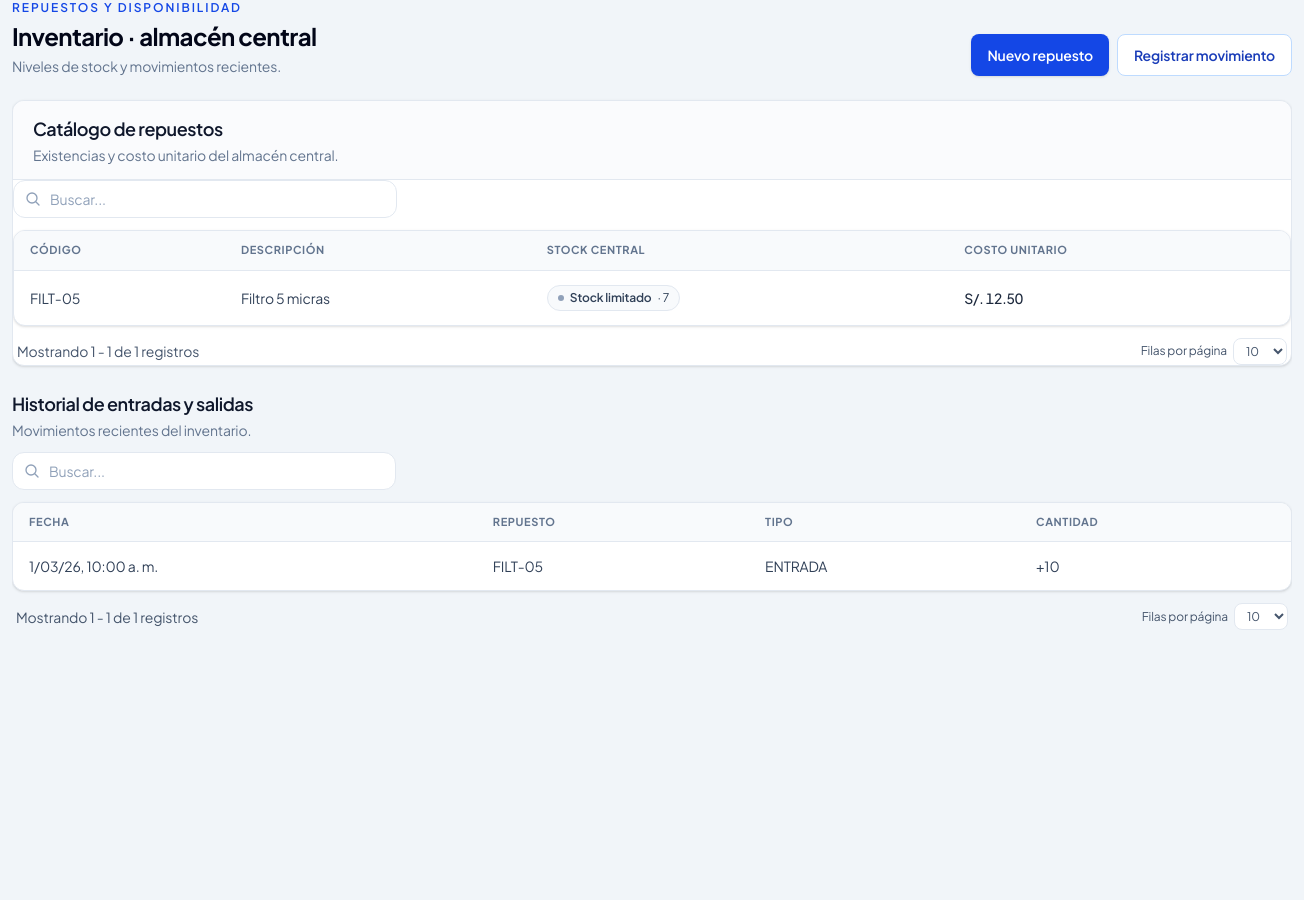
InventarioPage › crea un repuesto
Click the button "Nuevo repuesto" at (1040, 55), box [971,34,1109,76]
(page scrolled)
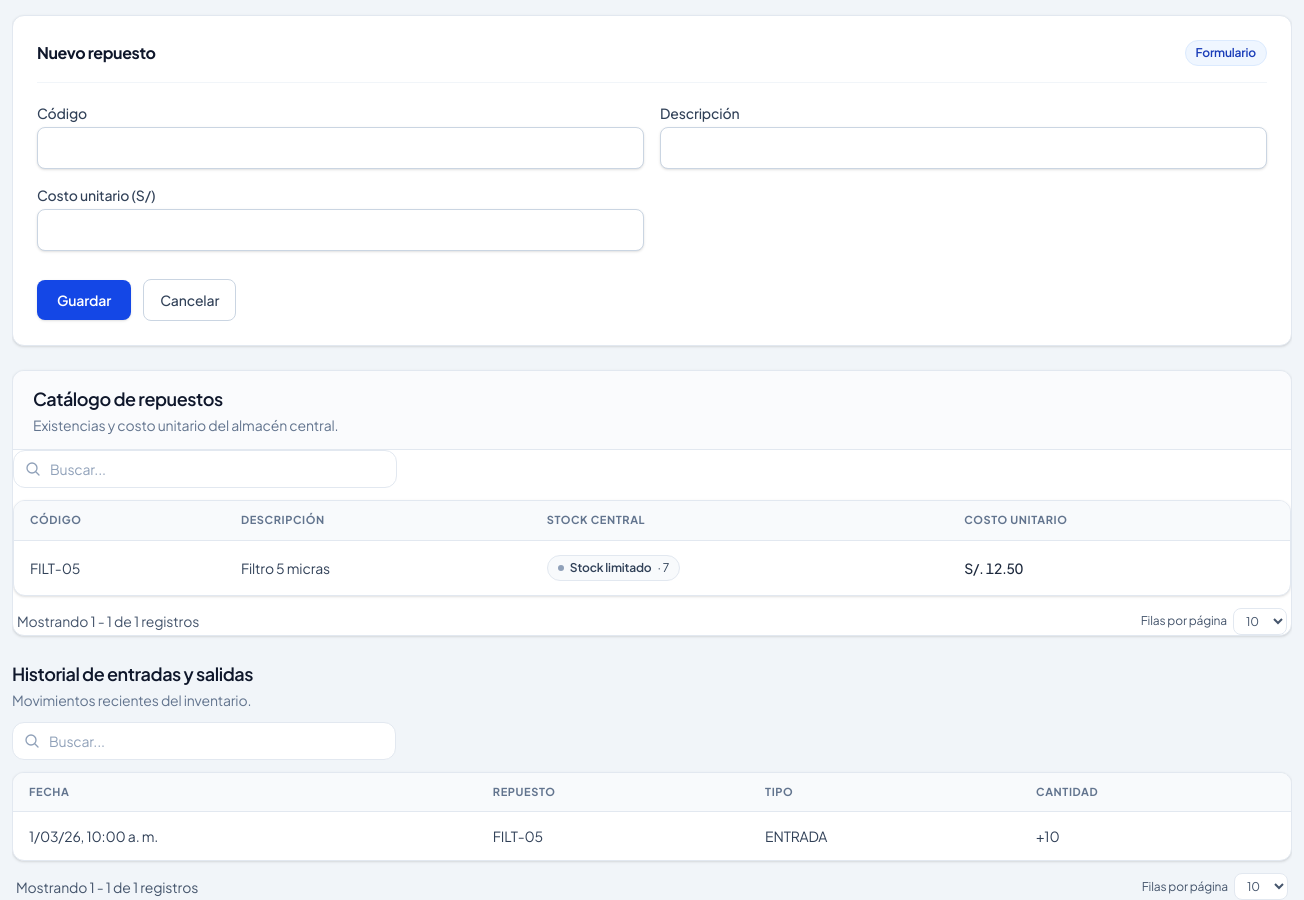
Type "MEMB-01" into the field labelled "Código" at (340, 148), box [37,127,644,169]
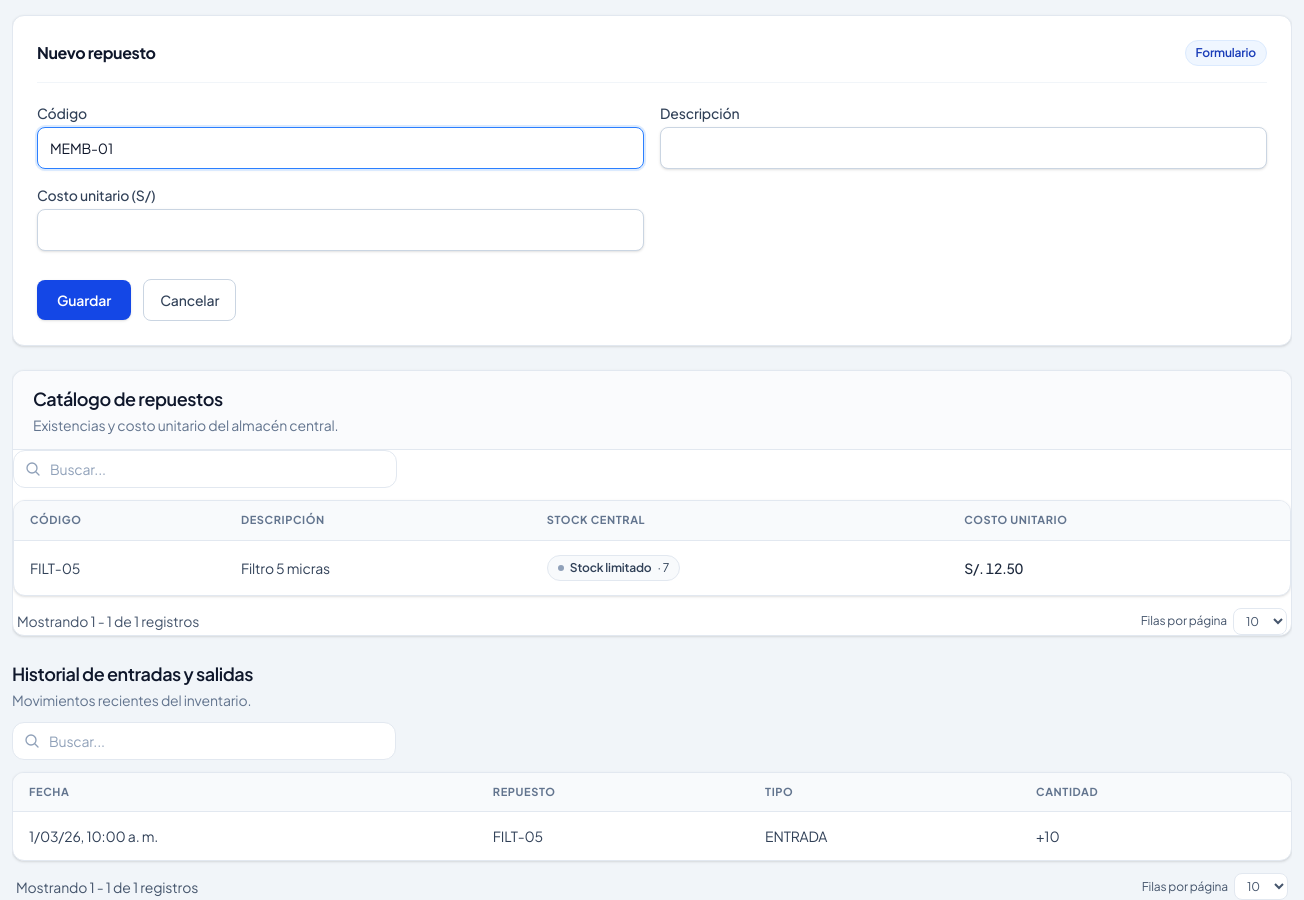
Type "Membrana" into the field labelled "Descripción" at (964, 148), box [660,127,1267,169]
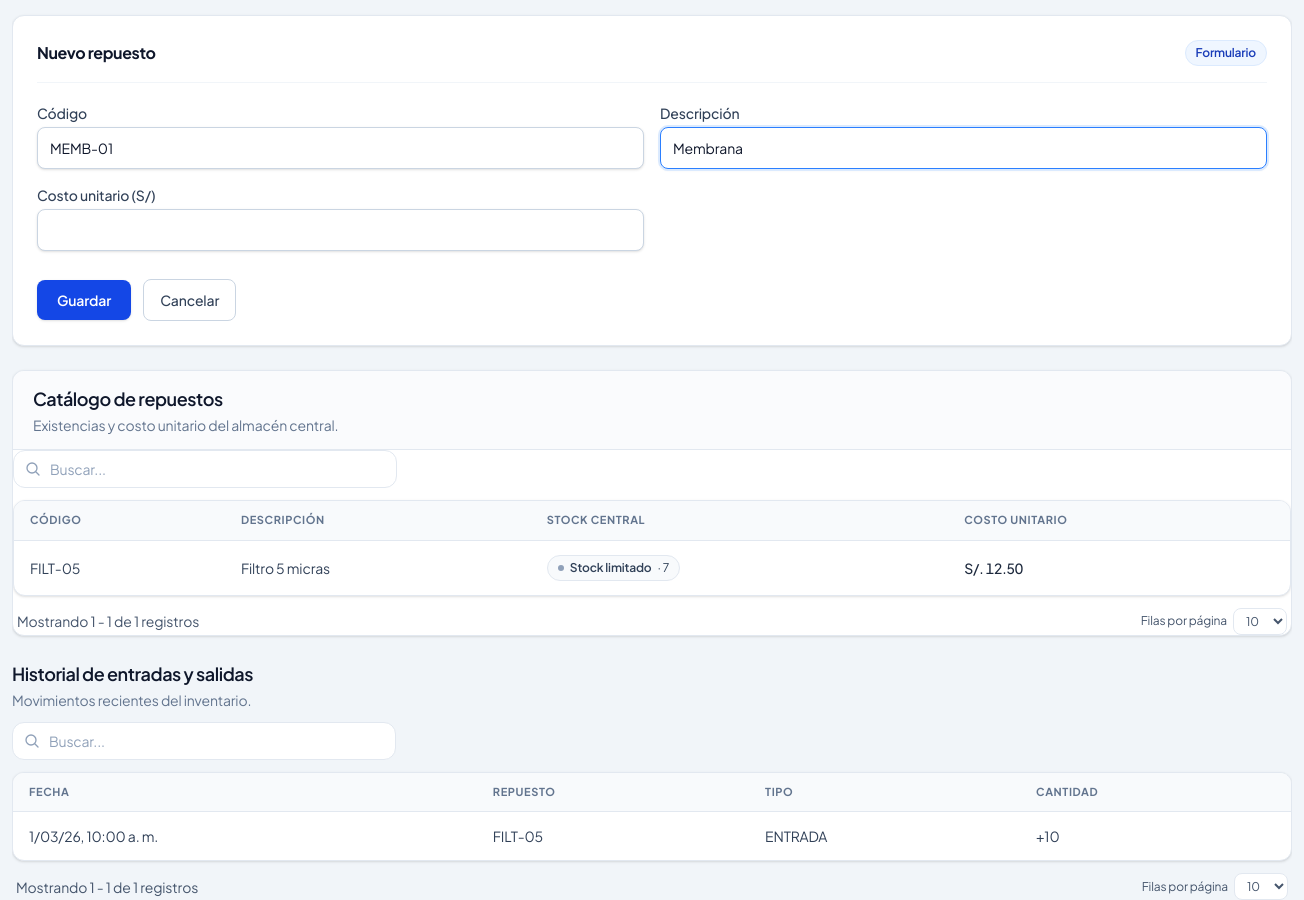
Type "99.90" into the field labelled "Costo unitario (S/)" at (340, 230), box [37,209,644,251]
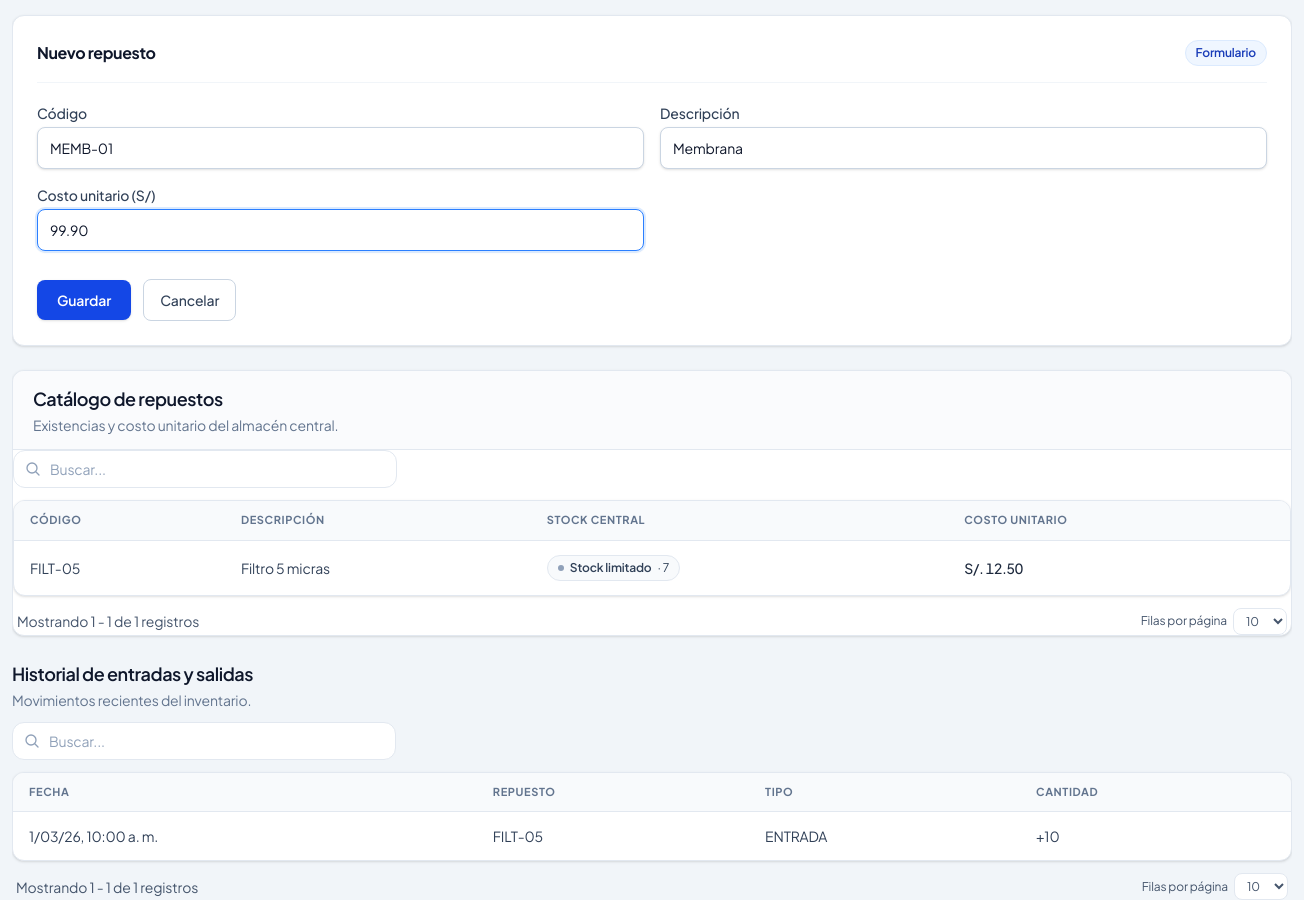
Click the button "Guardar" at (84, 300), box [37,280,131,320]
(page scrolled)
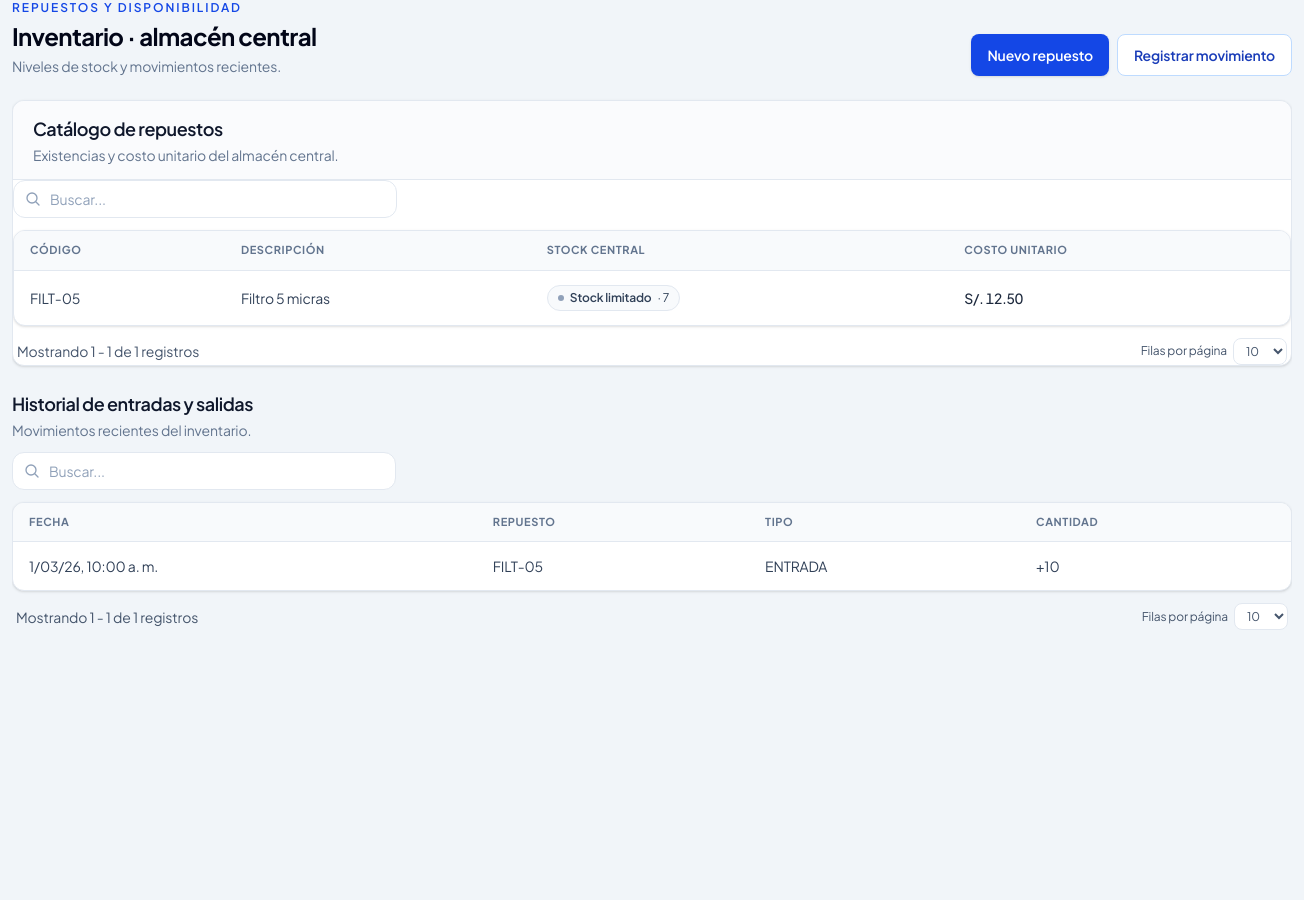
Expected: the button "Nuevo repuesto" is shown, [971,34,1109,76]
